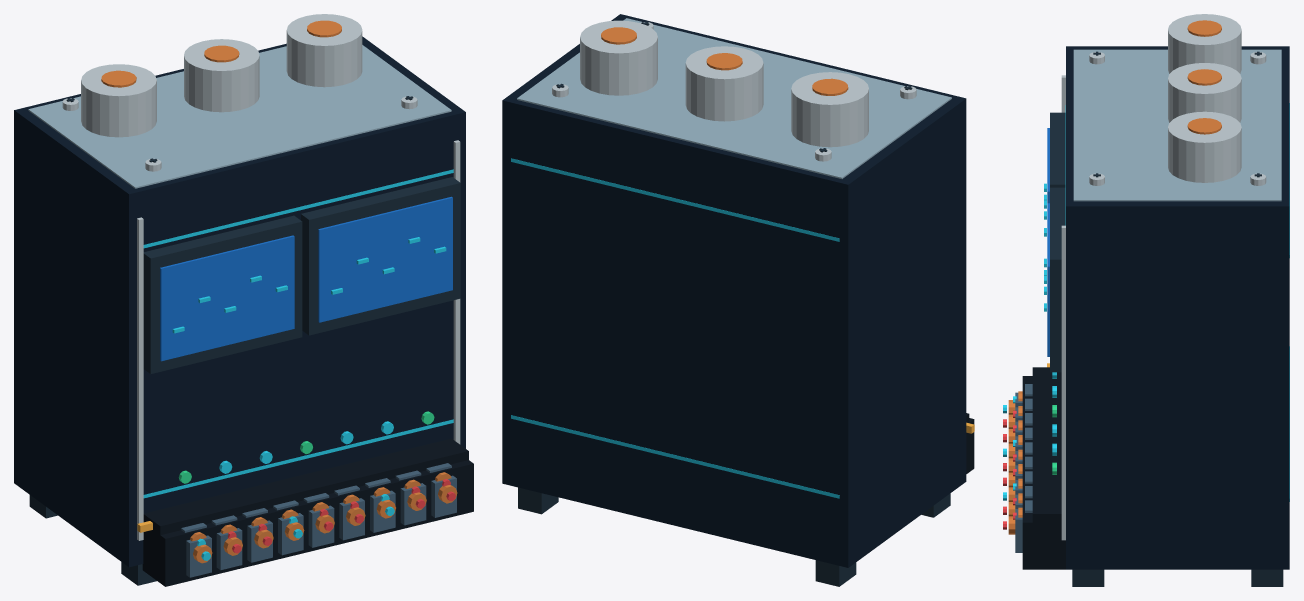
Rendered from 15_L73_VirtualSlurrySupplyCabinet.fbx.
3 views of the same model, side by side, from view 1: azimuth 30°, elevation 25°; view 2: azimuth 150°, elevation 25°; view 3: azimuth 270°, elevation 25° (orthographic). The views are drawn at different scales.
Parts seen in each view (by area): view 1: VirtualSlurrySupplyCabinet; view 2: VirtualSlurrySupplyCabinet; view 3: VirtualSlurrySupplyCabinet.
Part boxes in pixels (x1,y1,x2,y2): VirtualSlurrySupplyCabinet: (14, 14, 473, 586); VirtualSlurrySupplyCabinet: (502, 14, 974, 586); VirtualSlurrySupplyCabinet: (1003, 14, 1289, 586).
Size of the model in its own units: 154 by 195 by 117.
